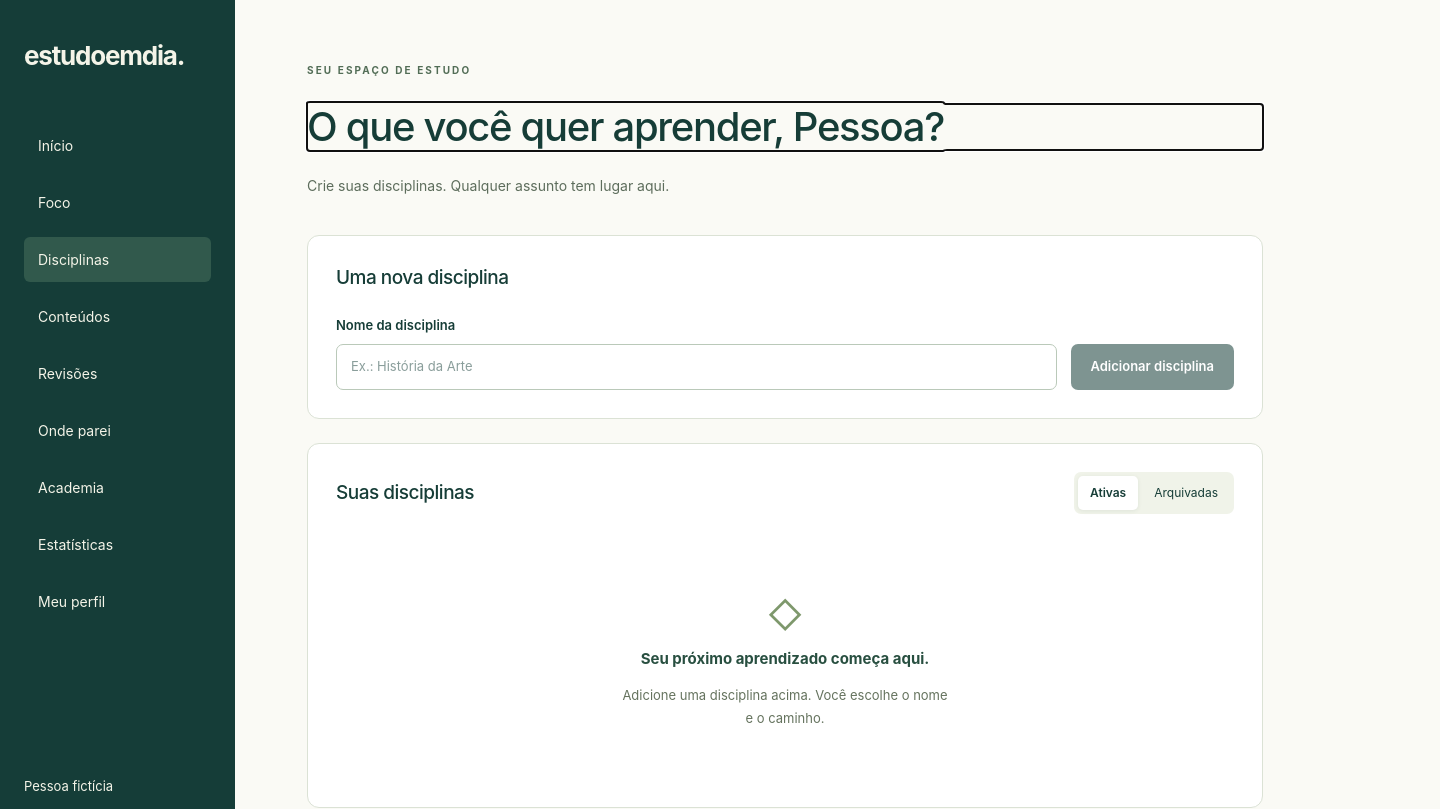
Test: acesso e rotas privadas › sessão expirada durante ação retorna ao login
Expected: the heading "Suas disciplinas" is shown, x1=336 y1=479 x2=474 y2=507
Type "Teste" into the field labelled "Nome da disciplina". click: x=696, y=367
box: x1=336 y1=344 x2=1056 y2=390
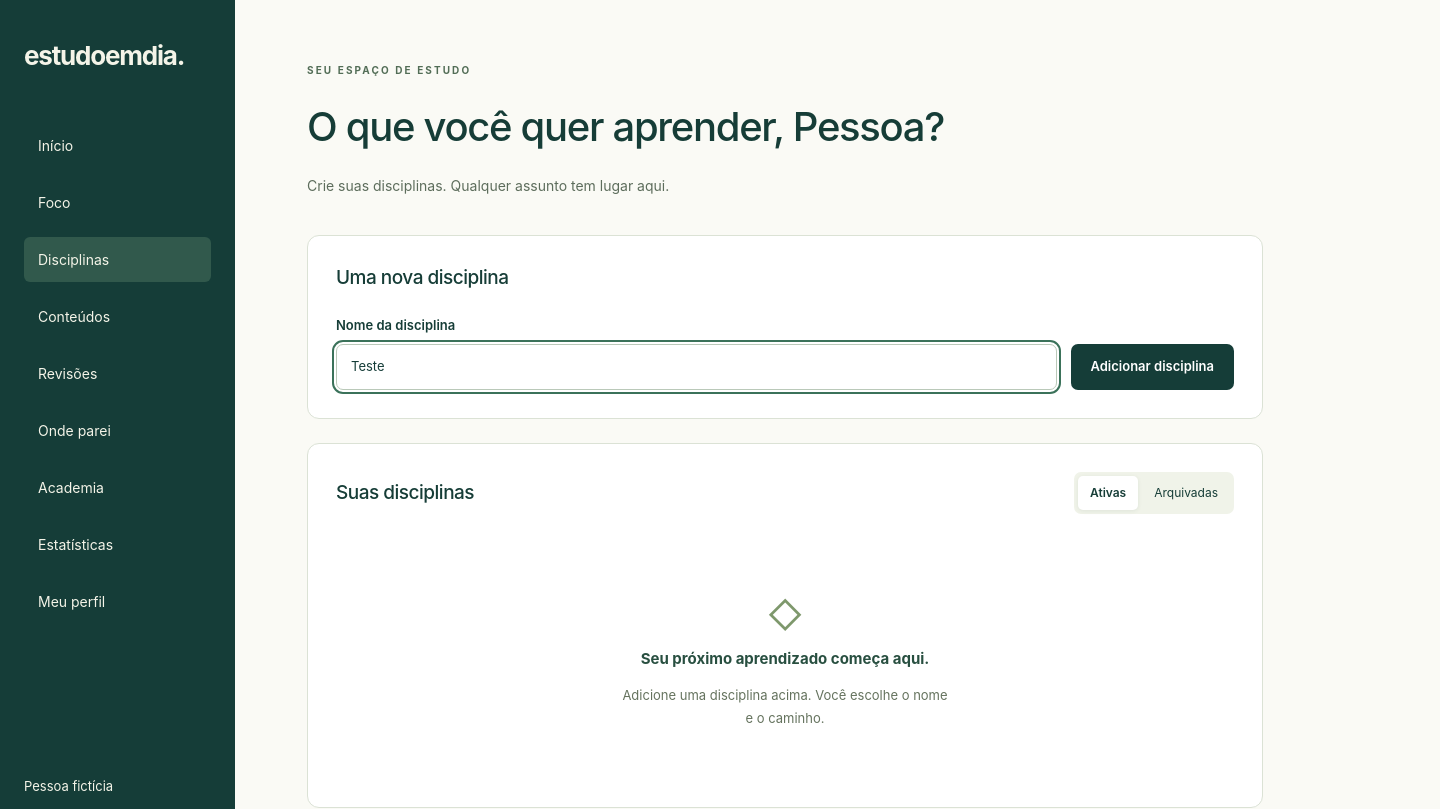
Click the button "Adicionar disciplina". click: x=1152, y=367
box: x1=1070 y1=344 x2=1234 y2=390
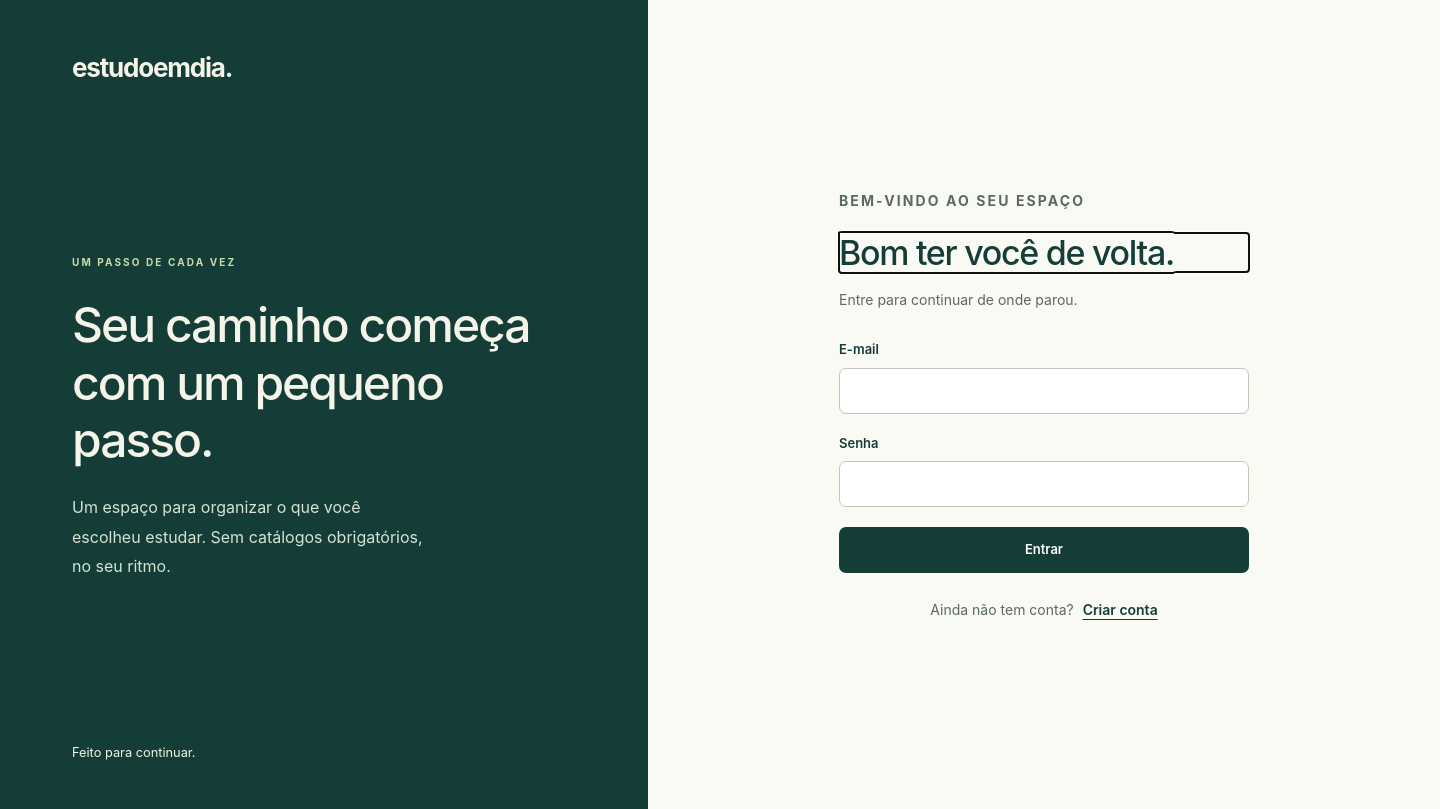
Now the heading "Bom ter você de volta." is shown, box x1=839 y1=232 x2=1174 y2=273
